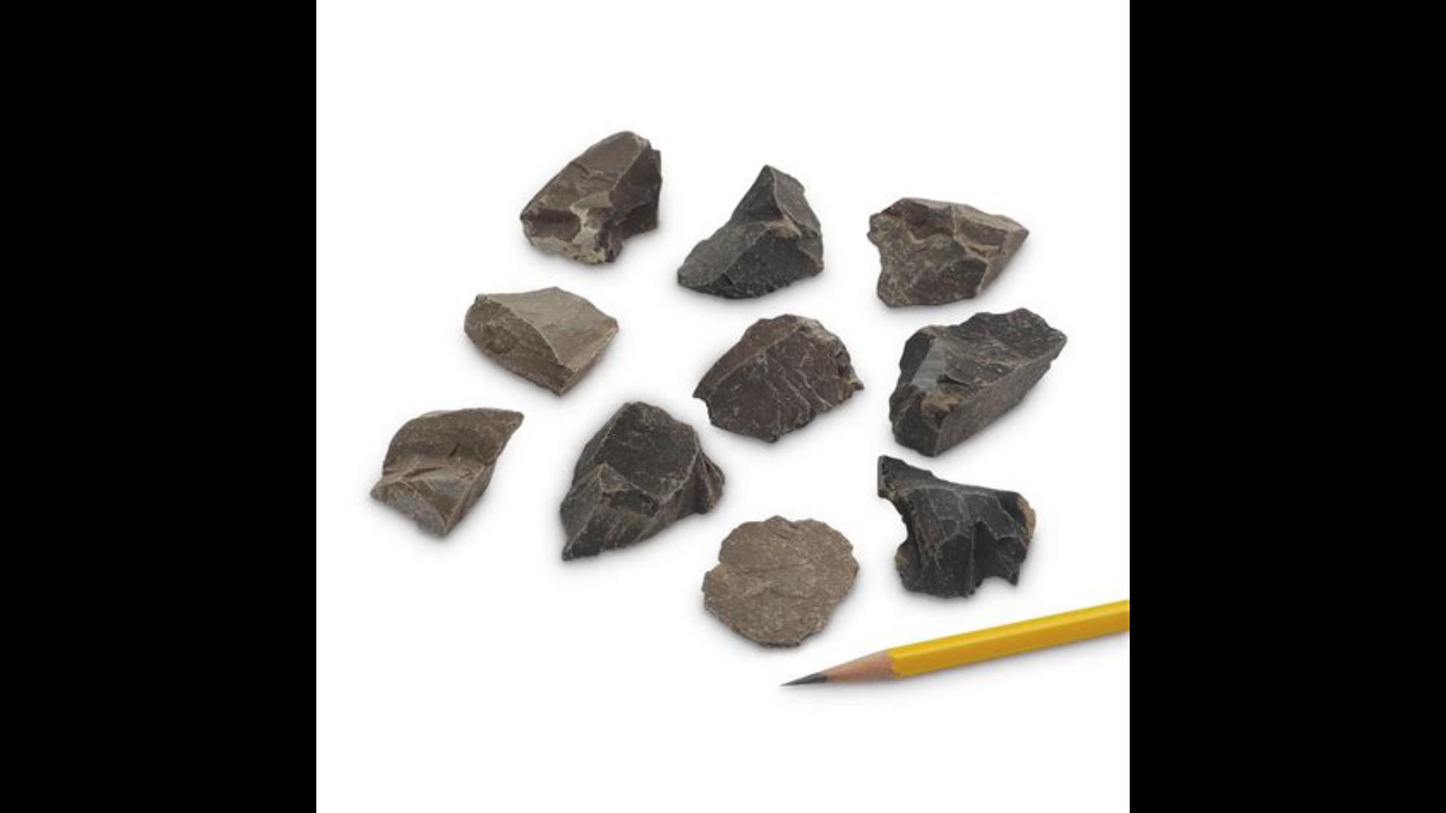rock: (890, 306, 1067, 450), (560, 401, 723, 557), (879, 455, 1034, 595), (696, 316, 860, 439), (704, 516, 857, 645), (376, 410, 524, 536), (678, 166, 819, 297), (521, 132, 660, 261), (870, 202, 1030, 306), (466, 288, 615, 393)
